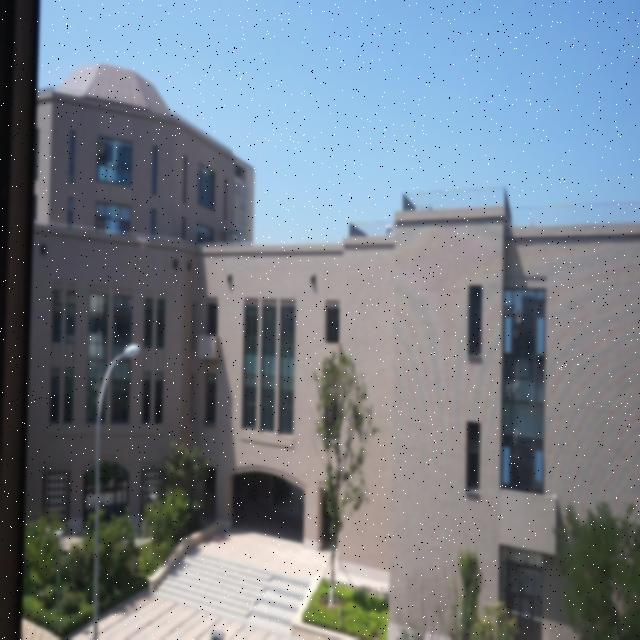UAV: (136, 237, 149, 250)
